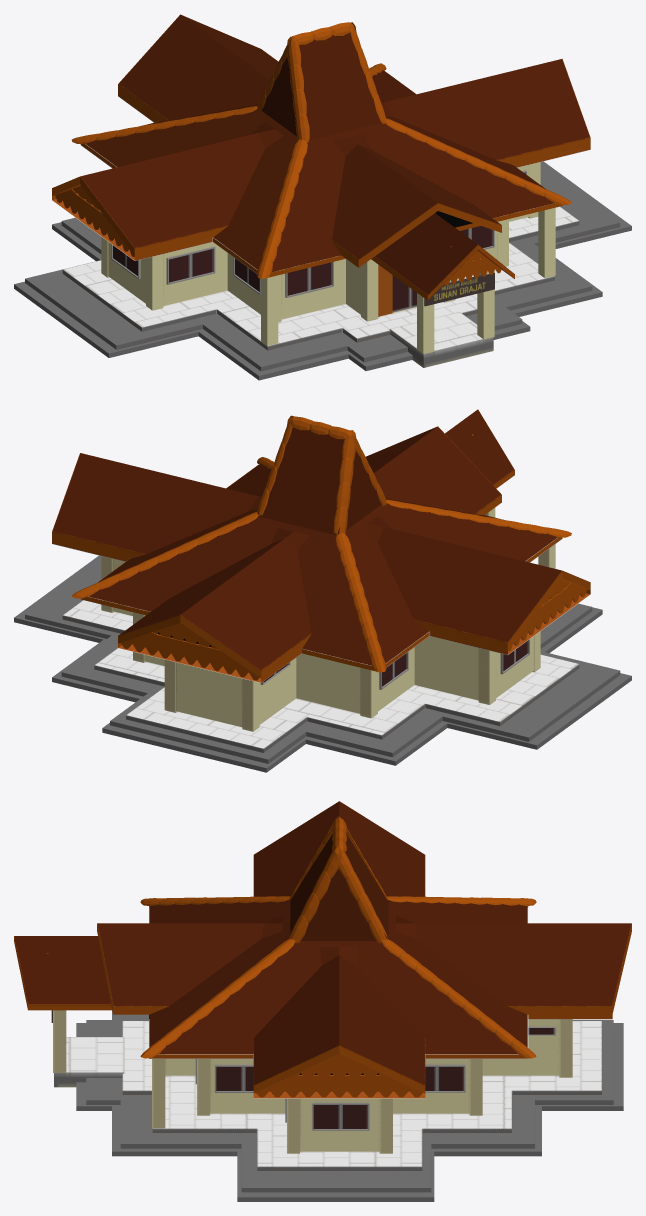
File: Gedung_museum.fbx
3 renders of one model, top to bottom at view 1: azimuth 30°, elevation 25°; view 2: azimuth 150°, elevation 25°; view 3: azimuth 270°, elevation 25°, orthographic. The views are drawn at different scales.
Visible parts, largest first — view 1: atap luar.002, atap tengah, foundation museum.002, foundation museum.001, Cylinder.007, Cube.347, foundation museum, atap luar.001, Cube.325, atap luar, jendela museum.010, Vent Museum kanan (+12 smaller); view 2: atap luar.002, atap tengah, foundation museum.002, foundation museum.001, Cube.347, Cylinder.007, foundation museum, atap luar, Cube.333, atap luar.001, Vent Museum kanan, Pilar fondasi museum.009 (+5 smaller); view 3: atap luar.002, atap tengah, foundation museum.001, foundation museum.002, Cylinder.007, Cube.347, foundation museum, atap luar.001, Vent Museum kiri, Cube.325, atap luar, jendela museum.004 (+9 smaller).
Boxes of the visible parts, left/top/right/bottom form: atap luar.002: left=52, top=14, right=590, bottom=267; atap tengah: left=85, top=32, right=554, bottom=271; foundation museum.002: left=25, top=164, right=620, bottom=371; foundation museum.001: left=62, top=206, right=579, bottom=350; Cylinder.007: left=71, top=22, right=571, bottom=278; Cube.347: left=108, top=165, right=529, bottom=319; foundation museum: left=14, top=161, right=631, bottom=380; atap luar.001: left=371, top=213, right=514, bottom=300; Cube.325: left=389, top=312, right=493, bottom=367; atap luar: left=52, top=70, right=590, bottom=277; jendela museum.010: left=166, top=246, right=215, bottom=284; Vent Museum kanan: left=55, top=186, right=134, bottom=256; atap luar.002: left=52, top=426, right=590, bottom=678; atap tengah: left=88, top=427, right=557, bottom=665; foundation museum.002: left=25, top=559, right=620, bottom=763; foundation museum.001: left=62, top=600, right=579, bottom=752; Cube.347: left=112, top=559, right=533, bottom=727; Cylinder.007: left=71, top=415, right=571, bottom=672; foundation museum: left=14, top=555, right=631, bottom=772; atap luar: left=52, top=464, right=590, bottom=682; Cube.333: left=121, top=623, right=259, bottom=680; atap luar.001: left=445, top=409, right=514, bottom=488; Vent Museum kanan: left=508, top=580, right=587, bottom=651; Pilar fondasi museum.009: left=478, top=648, right=495, bottom=704; atap luar.002: left=97, top=801, right=631, bottom=1093; atap tengah: left=149, top=833, right=527, bottom=1053; foundation museum.001: left=122, top=1021, right=601, bottom=1170; foundation museum.002: left=86, top=1014, right=613, bottom=1192; Cylinder.007: left=140, top=816, right=536, bottom=1058; Cube.347: left=165, top=1019, right=559, bottom=1151; foundation museum: left=76, top=1010, right=623, bottom=1201; atap luar.001: left=14, top=936, right=111, bottom=1010; Vent Museum kiri: left=256, top=1053, right=422, bottom=1097; Cube.325: left=54, top=1037, right=124, bottom=1087; atap luar: left=149, top=906, right=612, bottom=1098; jendela museum.004: left=312, top=1102, right=369, bottom=1130.
Size of the model in its own units: 4186 by 1766 by 4127.
3 materials, 2 textured.
